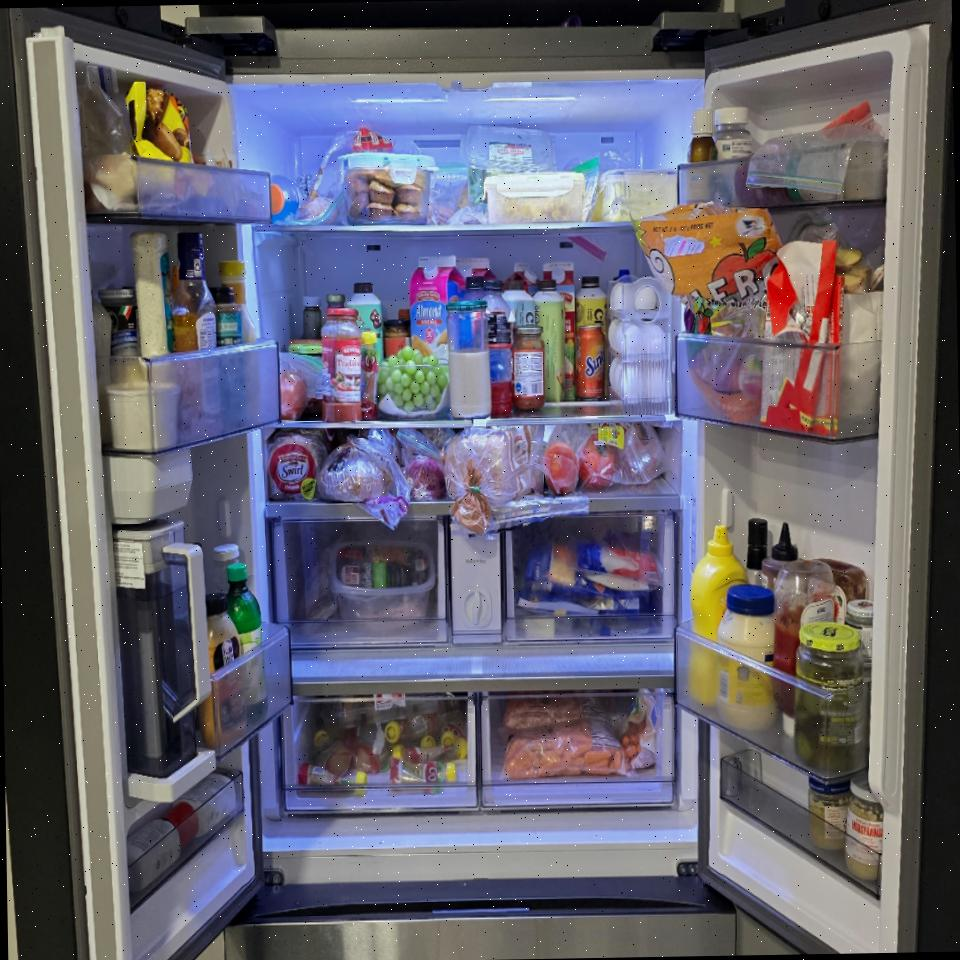Huevos: (607, 282, 673, 410)
Tomate: (577, 440, 618, 491), (544, 444, 580, 493), (278, 373, 306, 420)
Zanahoria: (503, 722, 628, 782), (500, 696, 586, 730)
